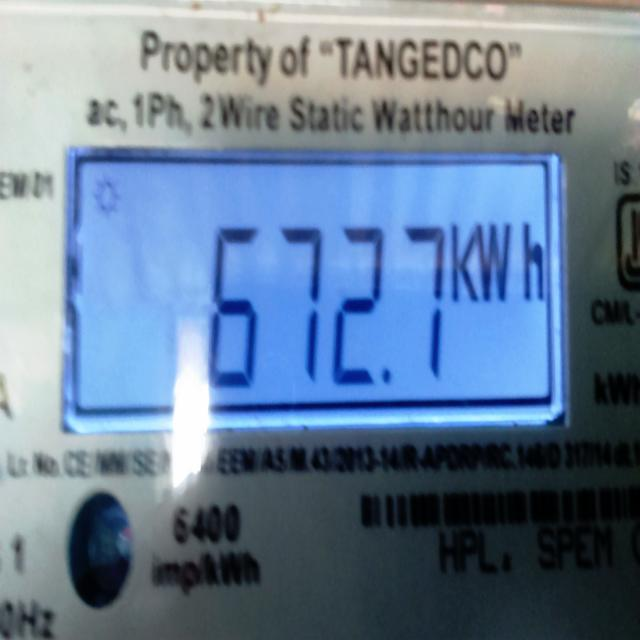LCD: (40, 125, 595, 451)
